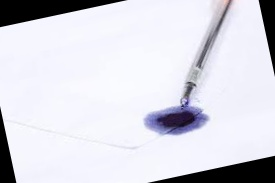ink: (146, 103, 208, 136)
